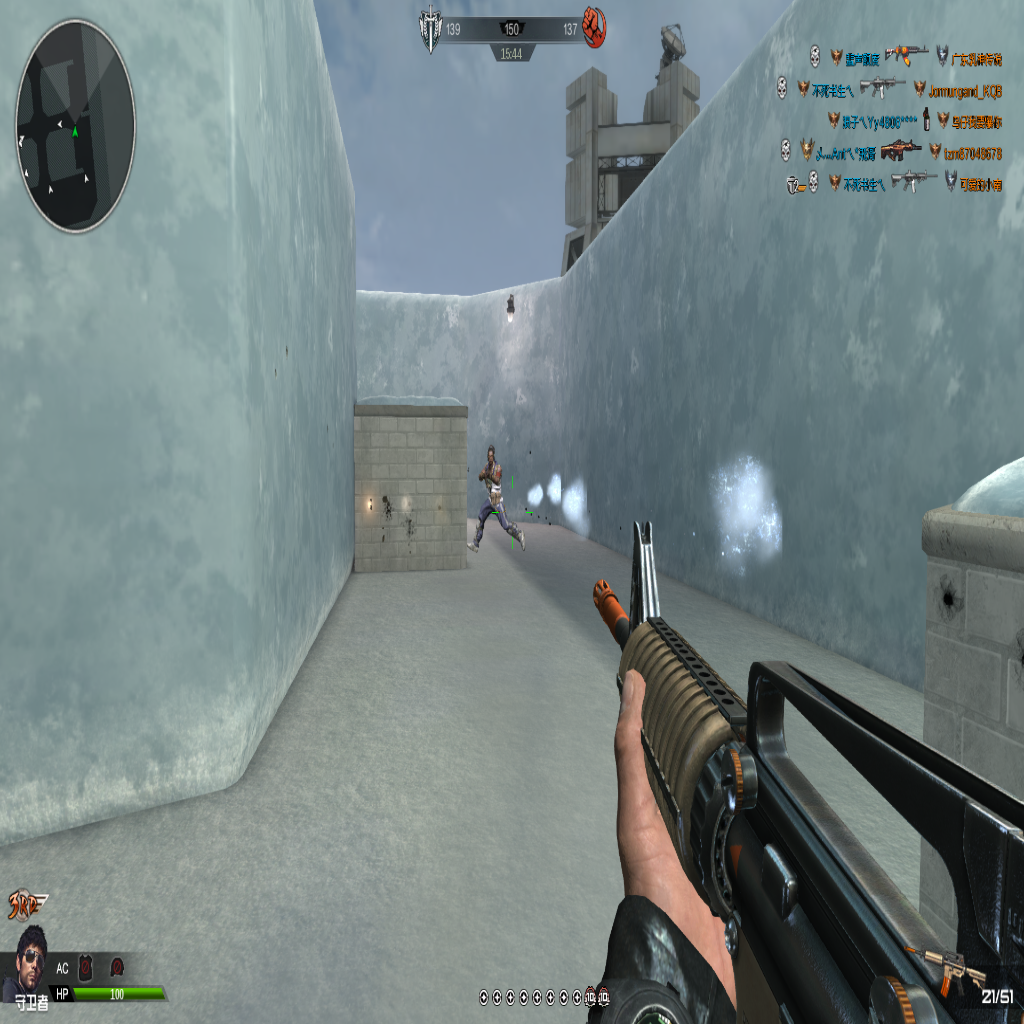tt: (471, 446, 523, 558)
